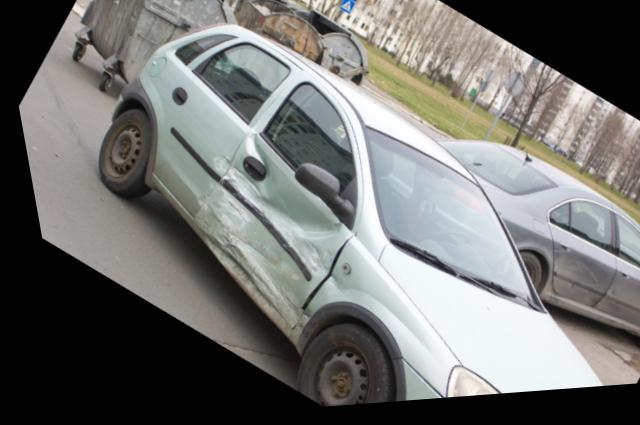dent: (184, 136, 328, 304), (197, 241, 232, 281), (204, 160, 224, 186)
